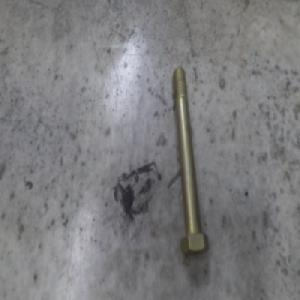Bolt: (170, 66, 207, 256)
